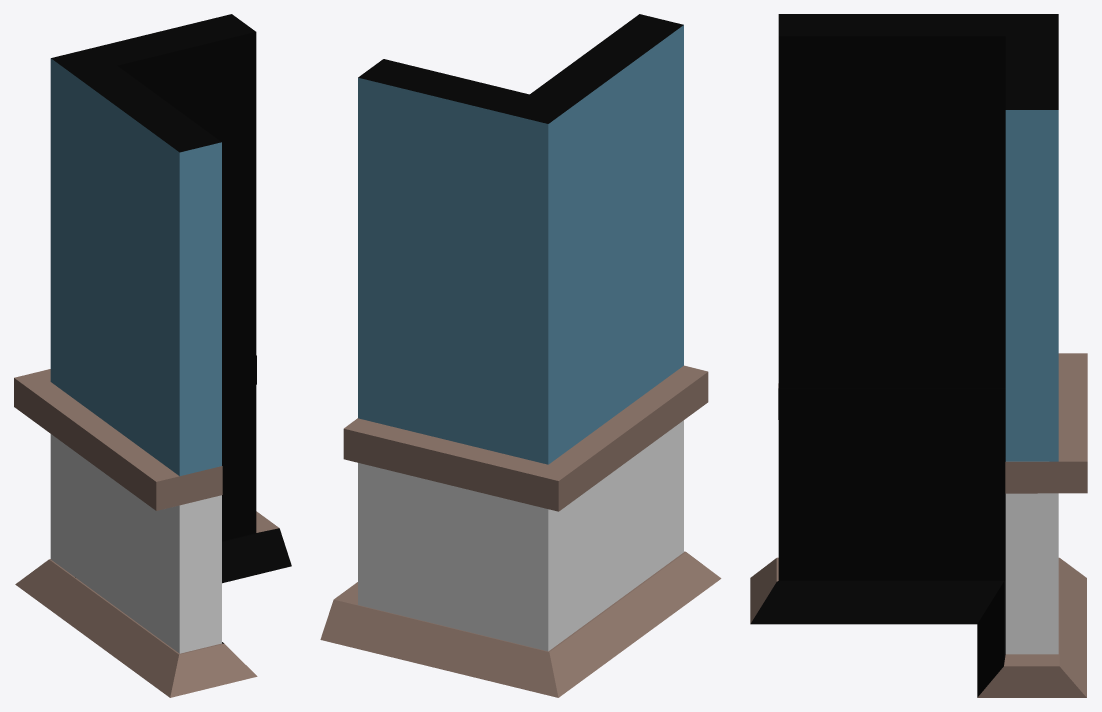
The model's file is coin 3.fbx.
3 renders of one model, left to right at view 1: azimuth 30°, elevation 25°; view 2: azimuth 150°, elevation 25°; view 3: azimuth 270°, elevation 25°, orthographic. The views are drawn at different scales.
Visible parts, largest first — view 1: coin_3; view 2: coin_3; view 3: coin_3.
Boxes of the visible parts, left/top/right/bottom form: coin_3: left=14, top=14, right=291, bottom=697; coin_3: left=320, top=14, right=721, bottom=697; coin_3: left=750, top=14, right=1087, bottom=697.
Bounding box in the file's own units: 1.34 × 3 × 1.59.
